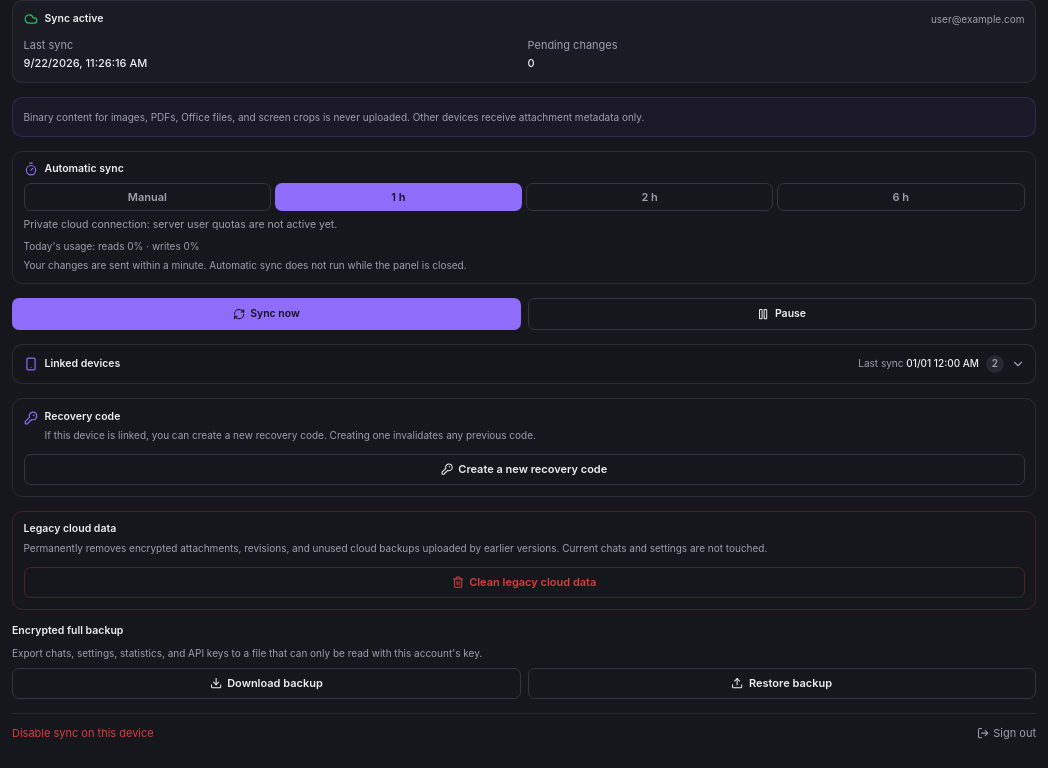
Test: SyncPanel cihaz bölümü katlanır (Varyant A) › kendi cihazını her zaman en üstte gösterir
Click the button "Linked devices". click: [82, 363]
box: 13,344 -> 1035,383
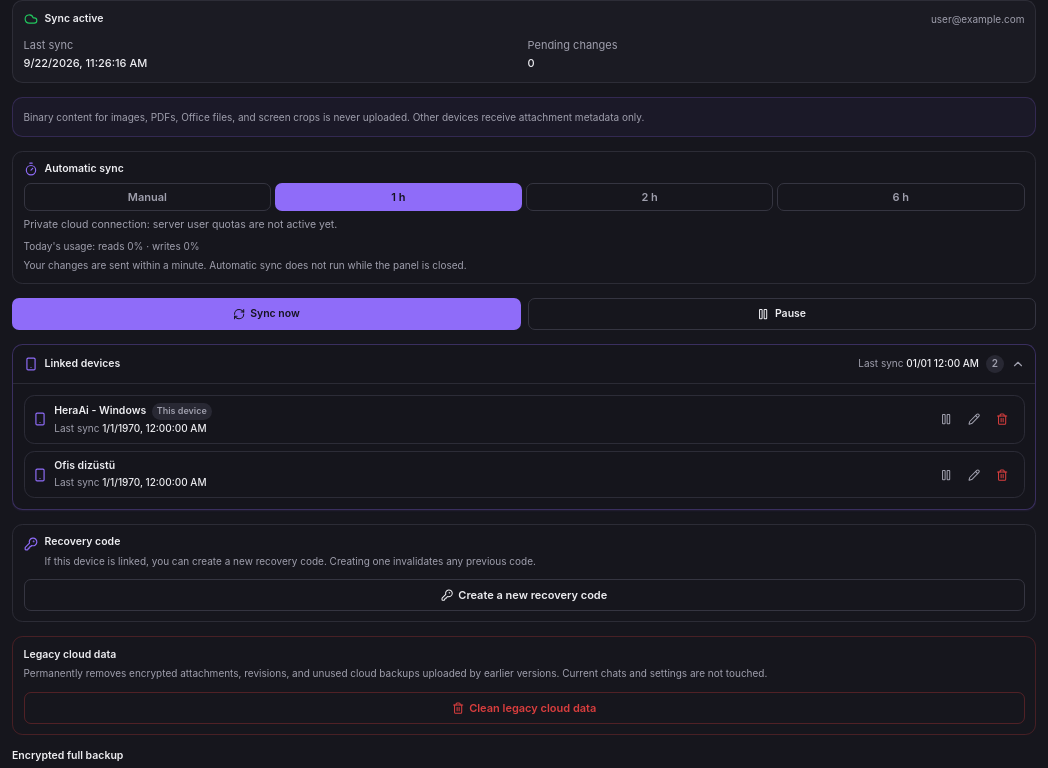
expect the text "HeraAi - Windows" is shown: met, box 54,404 -> 146,418
